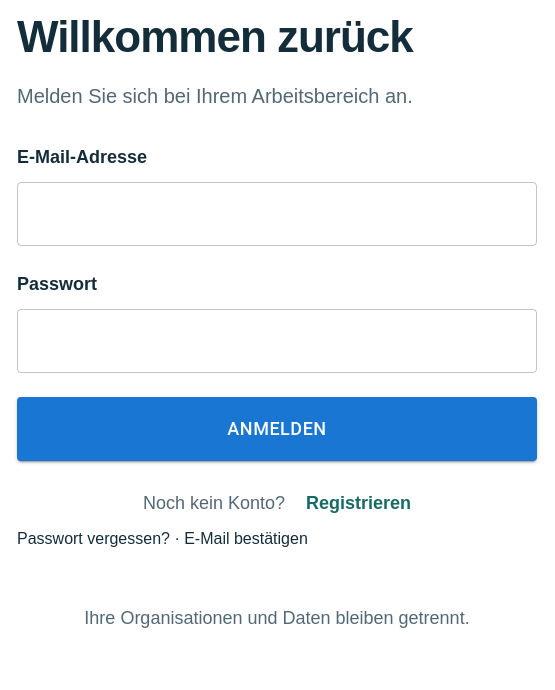
Test: invalid credentials stay local and show validation messages
The image size is (555, 690).
Type "not-an-email" into the field labelled "E-Mail-Adresse". click: (277, 214)
box: [17,184,537,243]
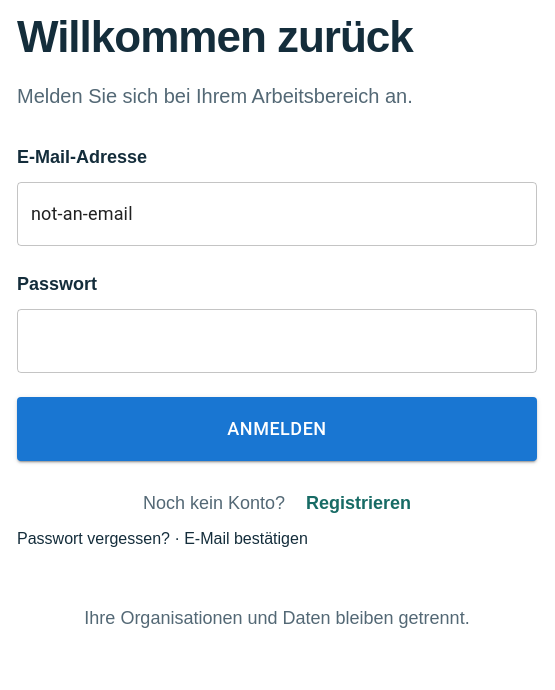
Click the button "Anmelden". click: (277, 429)
box: [17,397,537,461]
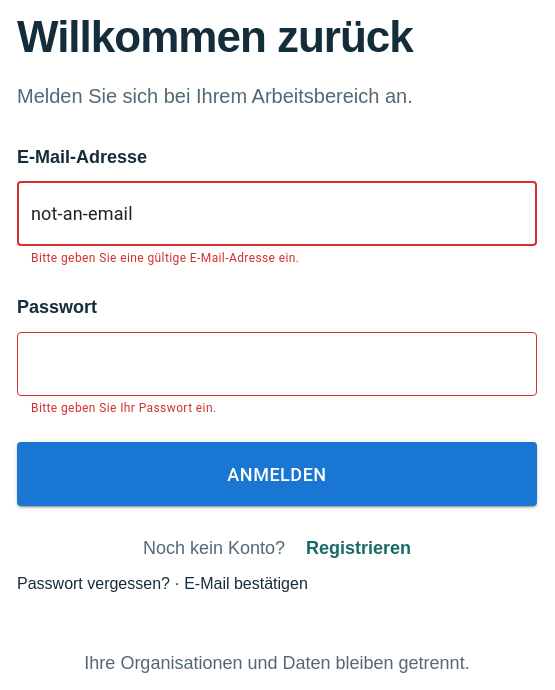
Now the text "Bitte geben Sie eine gültige E-Mail-Adresse ein." is shown, box [31,251,299,265]
